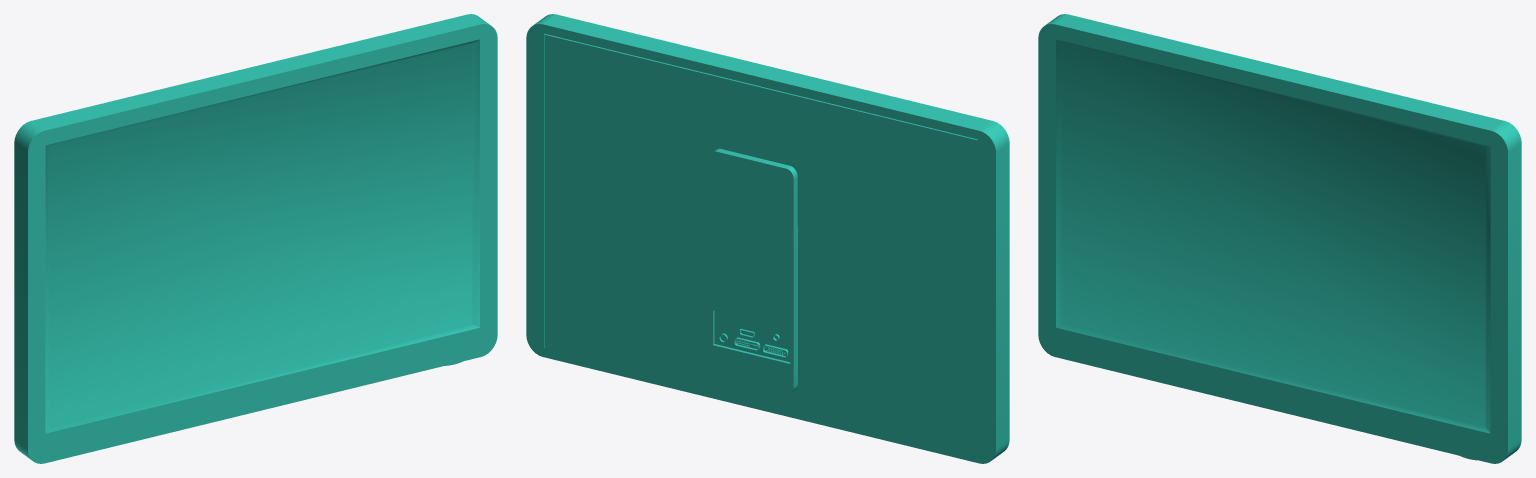
The picture shows the model from 3 angles, left to right: view 1: azimuth 30°, elevation 25°; view 2: azimuth 150°, elevation 25°; view 3: azimuth 330°, elevation 25°; orthographic projection.
Parts seen in each view (by area): view 1: Rectangle001; view 2: Rectangle001; view 3: Rectangle001.
Part boxes in pixels (left/top/right/bottom): Rectangle001: left=14, top=14, right=497, bottom=463; Rectangle001: left=526, top=14, right=1009, bottom=463; Rectangle001: left=1038, top=14, right=1521, bottom=463.
Size of the model in its own units: 119 by 81.58 by 7.8.
